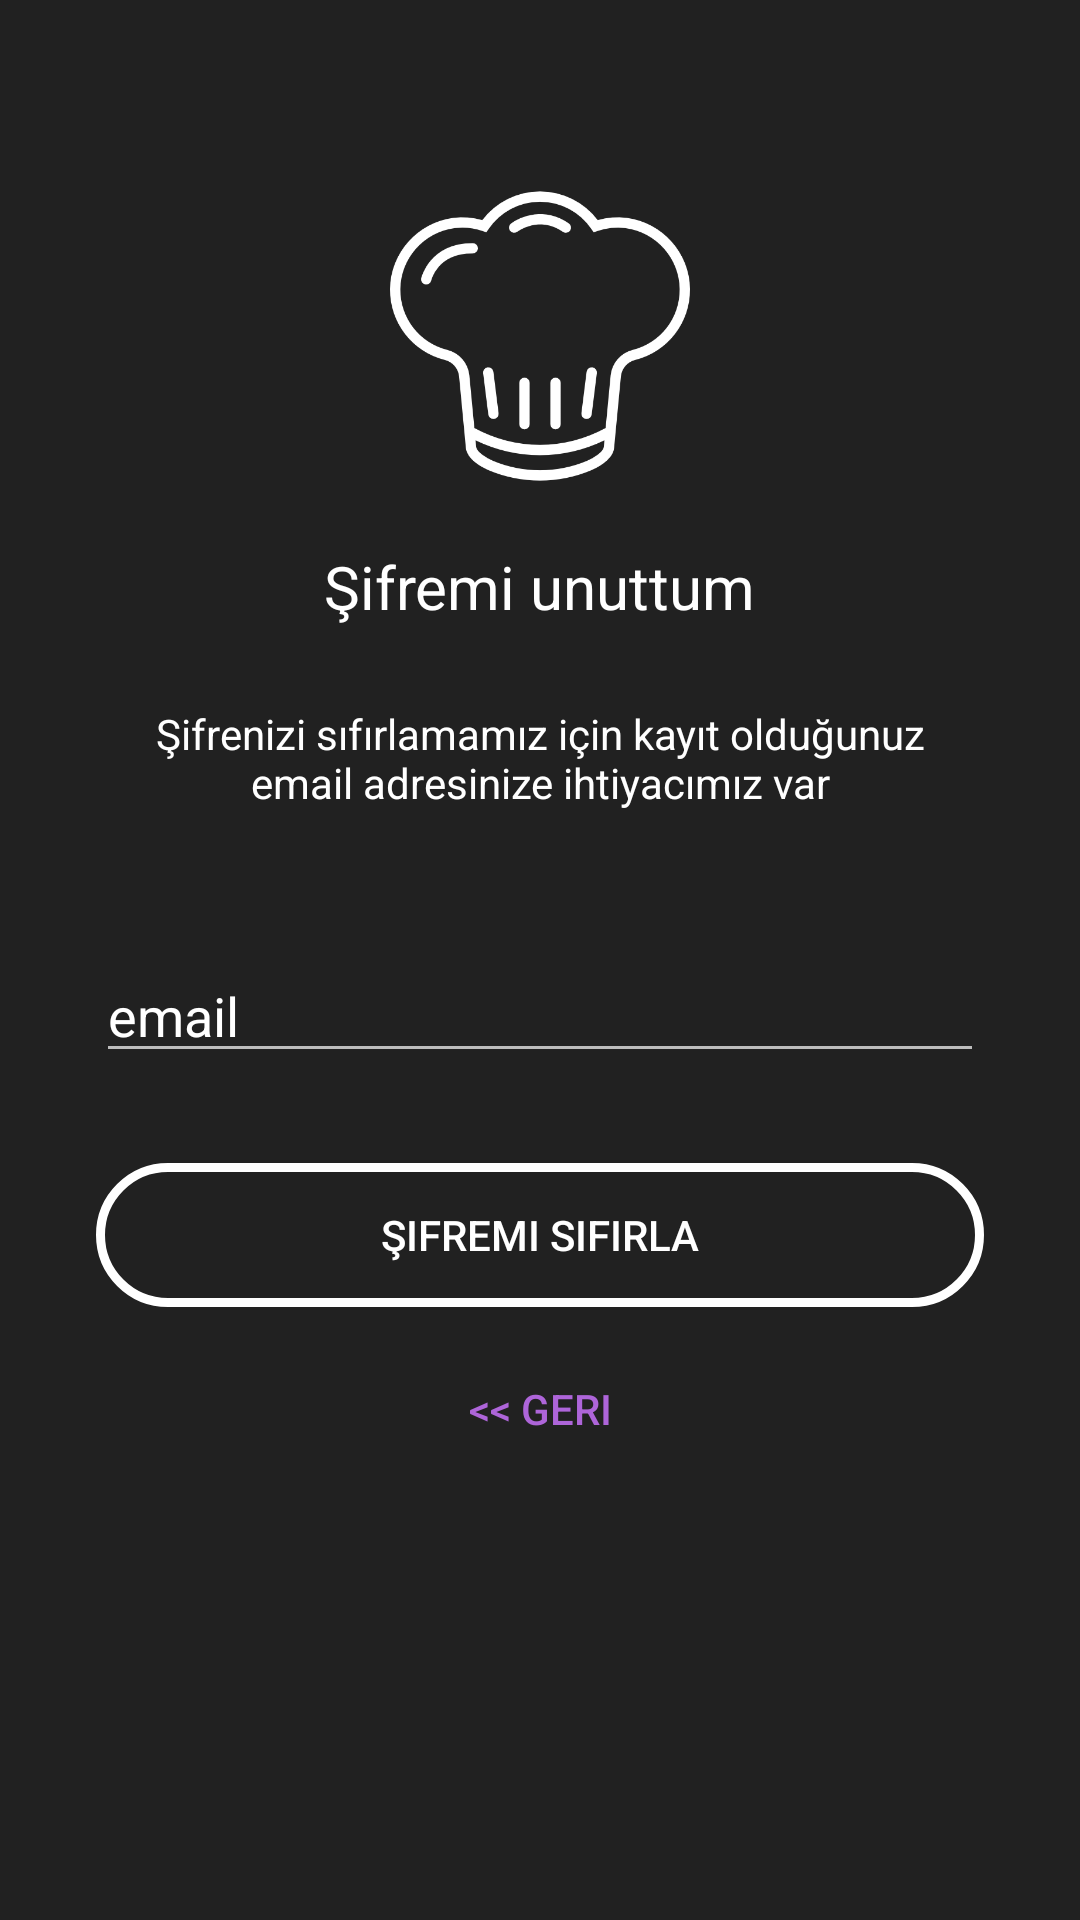

Locate icon controls on the screen. Image size 1080×1920, boxes as detection(x1, y1, x2, y2).
chef: detection(390, 191, 690, 481)
